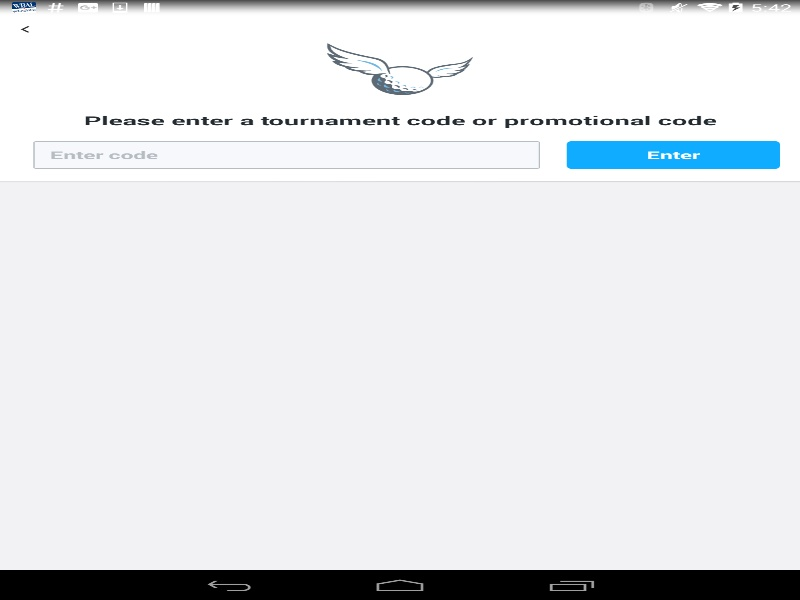Input: (36, 142, 536, 167)
